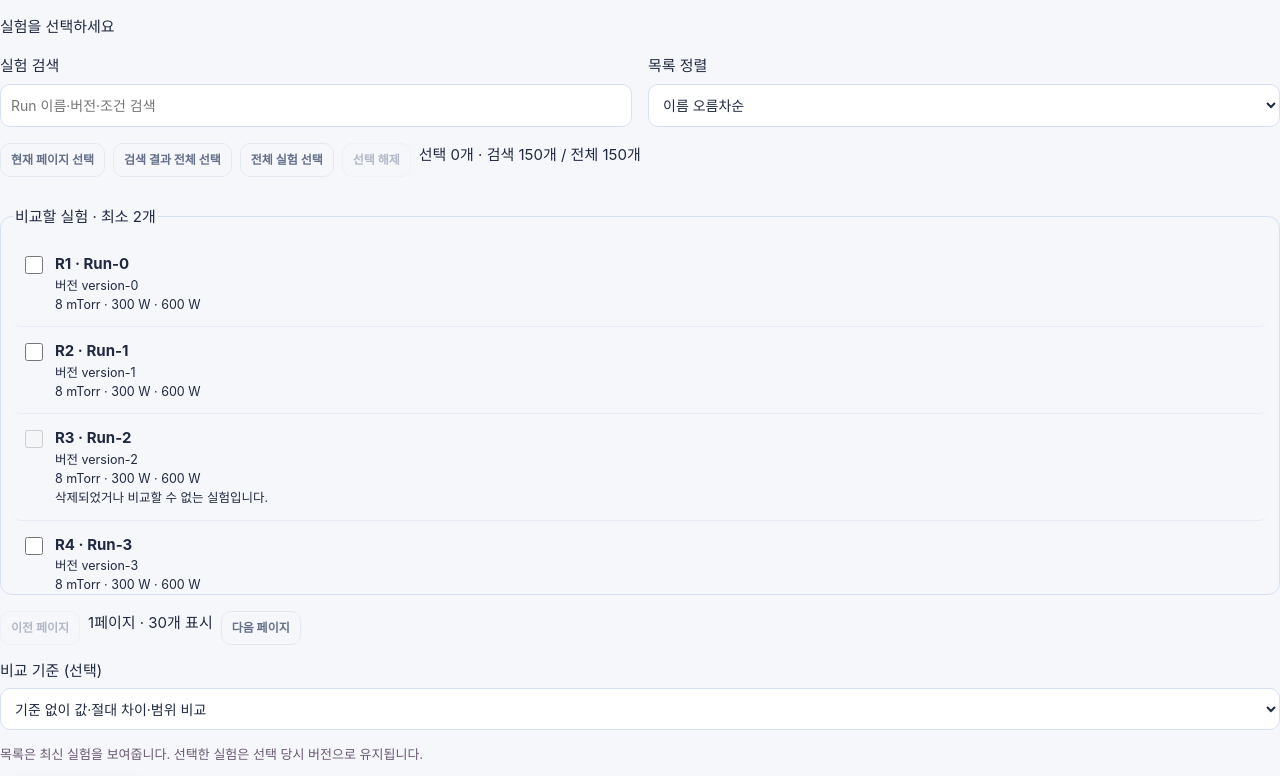
Test: an ambiguous save failure retries the same mutation key without adding twice
Step 1. Click the checkbox labelled "R1 · Run-0 버전 version-0 8 mTorr · 300 W · 600 W" → click(34, 265), box left=25, top=256, right=43, bottom=274
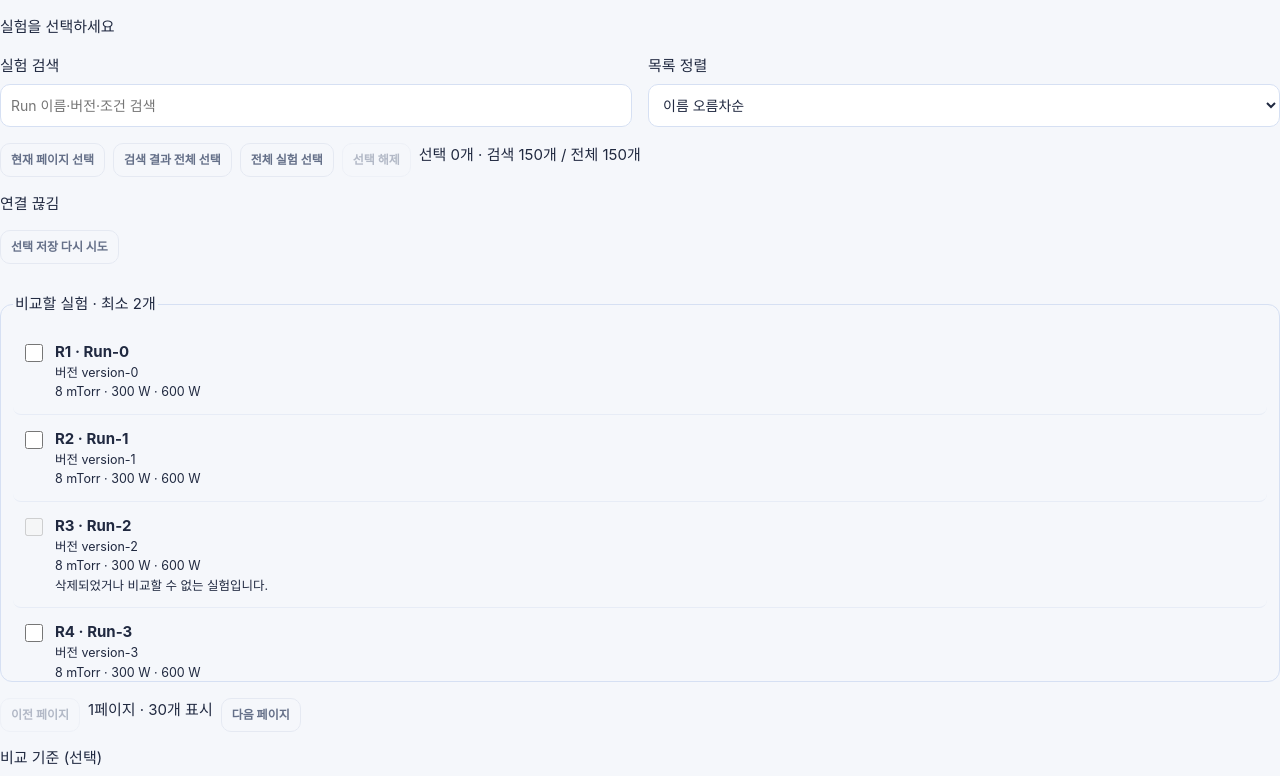
Expected: the message "연결 끊김 선택 저장 다시 시도" is shown, left=0, top=194, right=119, bottom=264
Step 2. Click the button "선택 저장 다시 시도" → click(59, 247), box left=0, top=230, right=119, bottom=264
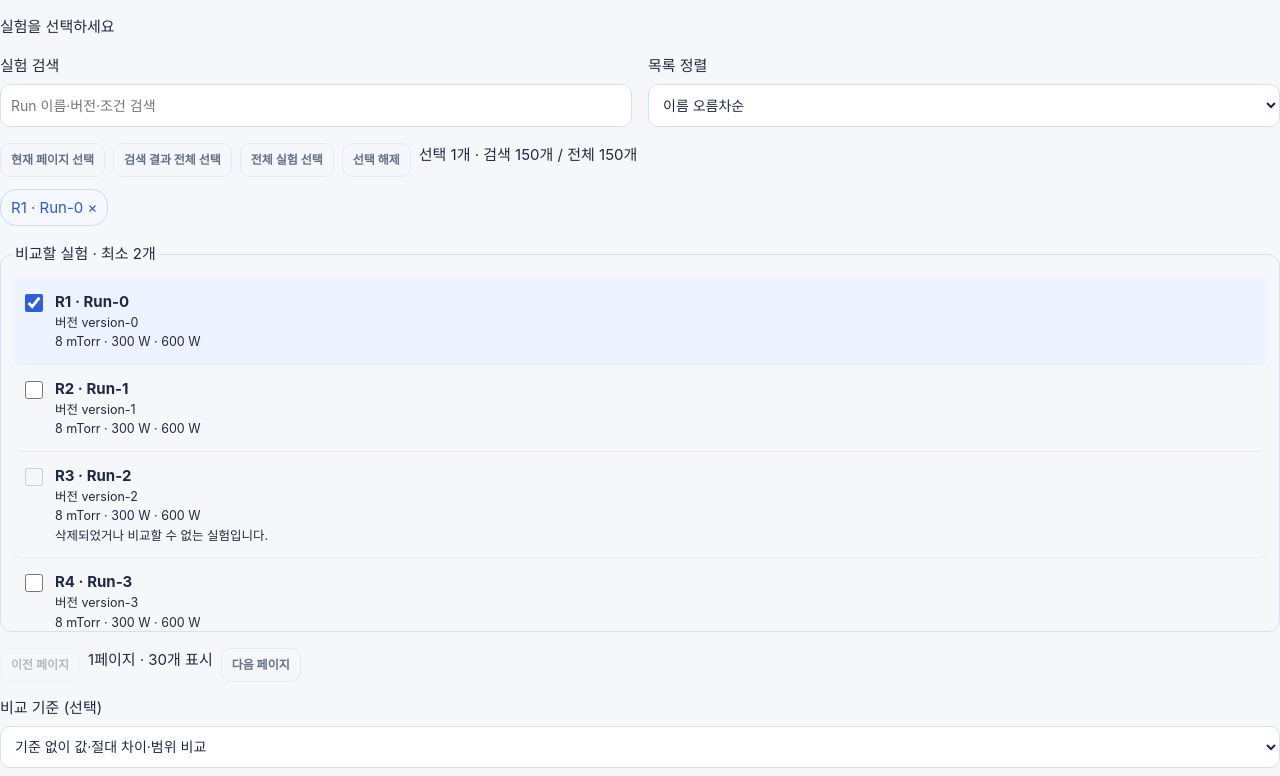
Expected: the message "연결 끊김 선택 저장 다시 시도" is gone
Expected: the text "선택 1개 · 검색 150개 / 전체 150개" is shown, left=419, top=145, right=637, bottom=164
